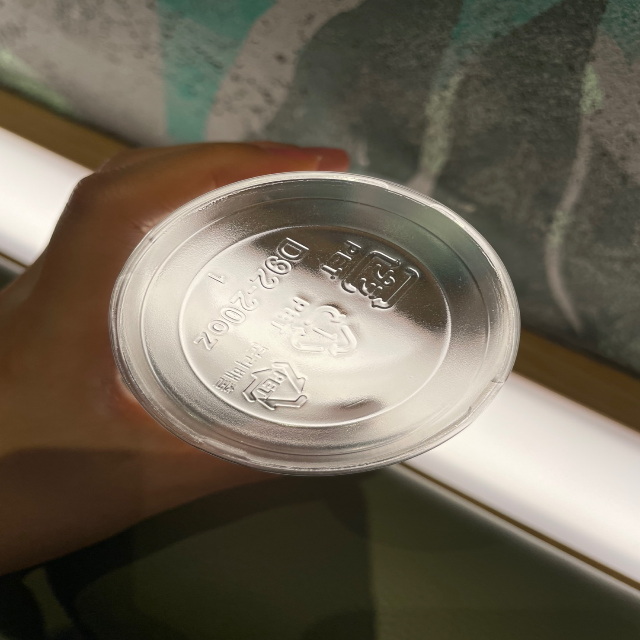pet: (316, 237, 422, 314), (212, 336, 313, 416), (269, 293, 359, 365)
